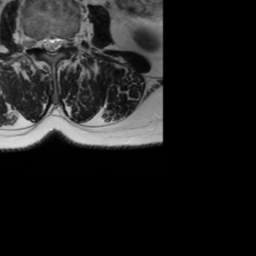CCS_stenosis: (49, 28, 57, 60)
LFS_normal: (64, 28, 72, 53)
LLS_normal: (57, 28, 64, 56)
RFS_normal: (32, 29, 40, 56)
RLS_normal: (40, 29, 49, 57)
